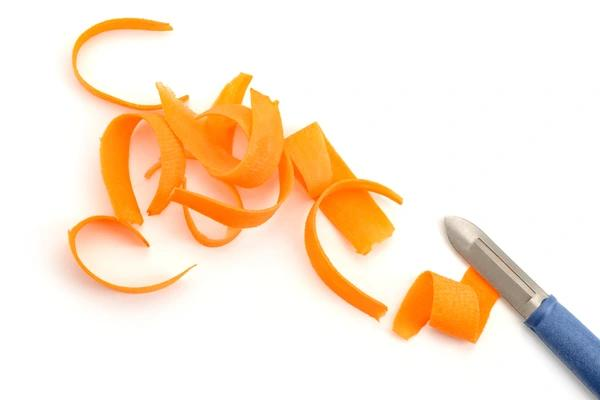organic: (444, 216, 599, 396), (305, 179, 392, 318), (157, 74, 250, 182), (68, 215, 195, 291), (72, 17, 171, 106), (392, 267, 498, 341), (305, 178, 402, 253), (284, 123, 354, 197), (100, 113, 142, 223), (144, 110, 185, 213)
